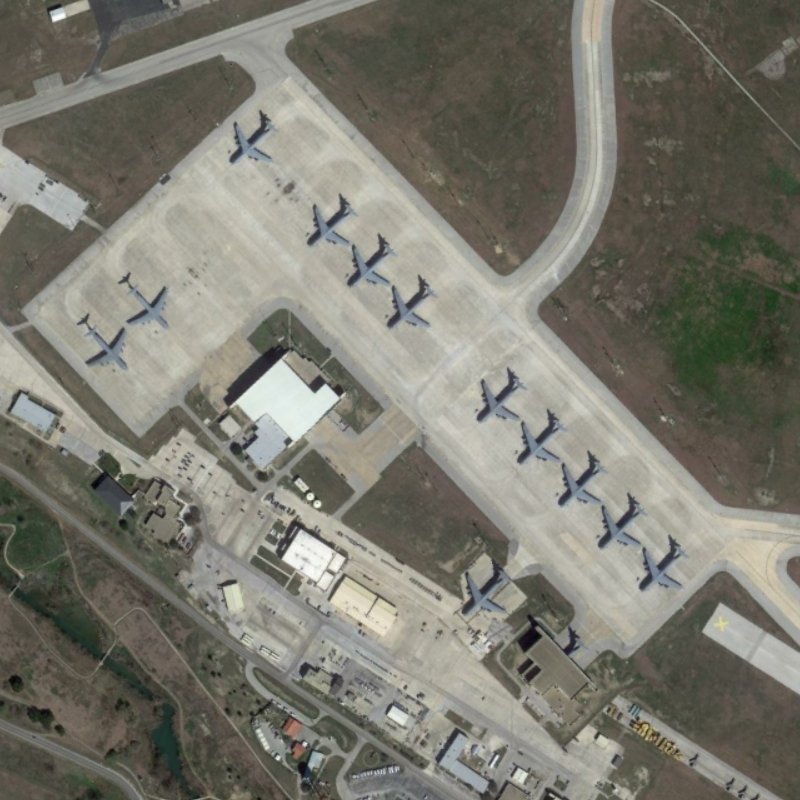A4: (634, 537, 692, 599), (592, 497, 653, 554), (383, 274, 440, 334), (514, 409, 571, 469), (556, 451, 613, 510), (472, 368, 528, 427), (460, 559, 513, 621), (224, 112, 281, 169), (304, 195, 360, 252), (344, 238, 399, 294), (81, 322, 133, 376), (123, 280, 173, 333)
